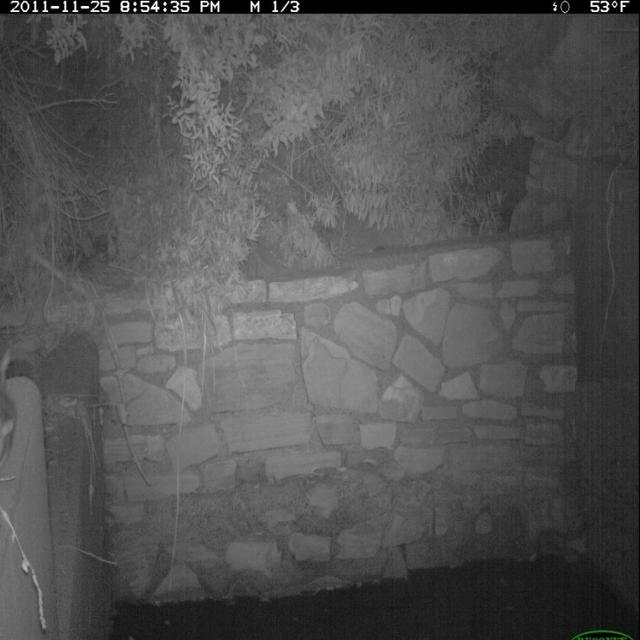rodent: (1, 342, 25, 472)
